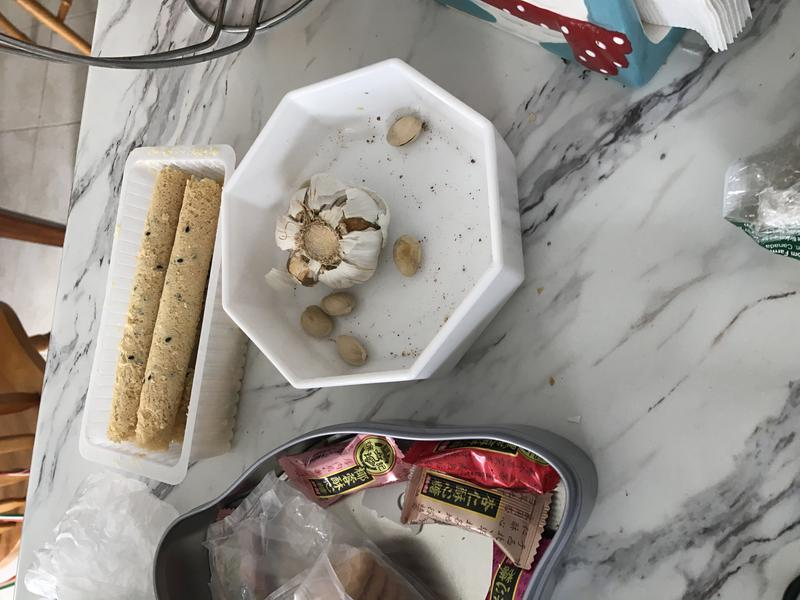garlic: (268, 166, 396, 295)
